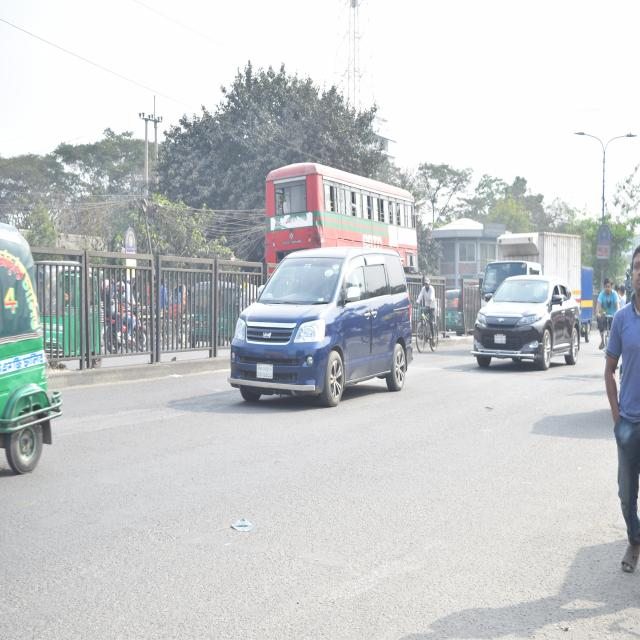bus: (259, 154, 422, 272)
car: (222, 244, 418, 423), (470, 274, 586, 378)
pickup-van: (483, 228, 587, 300)
